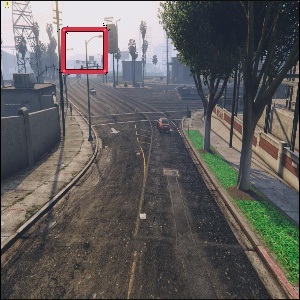square: (59, 25, 111, 76)
